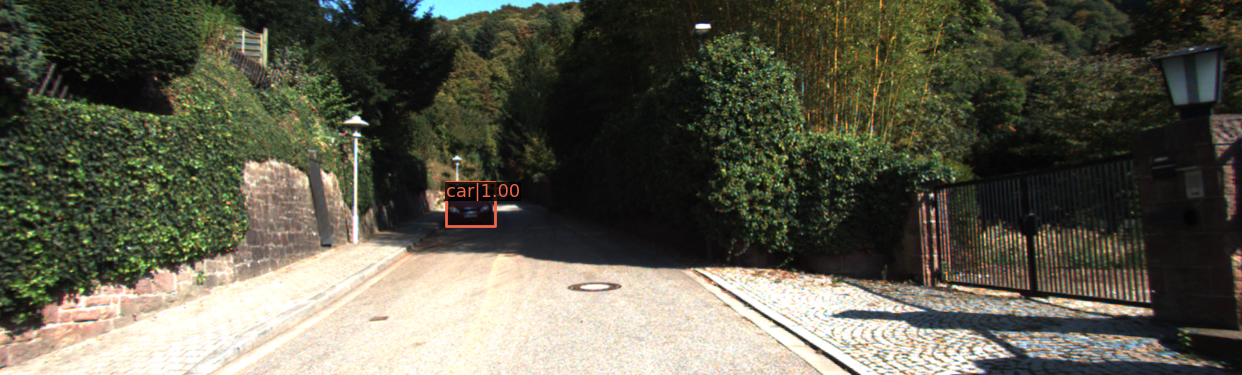car: (444, 185, 494, 230)
